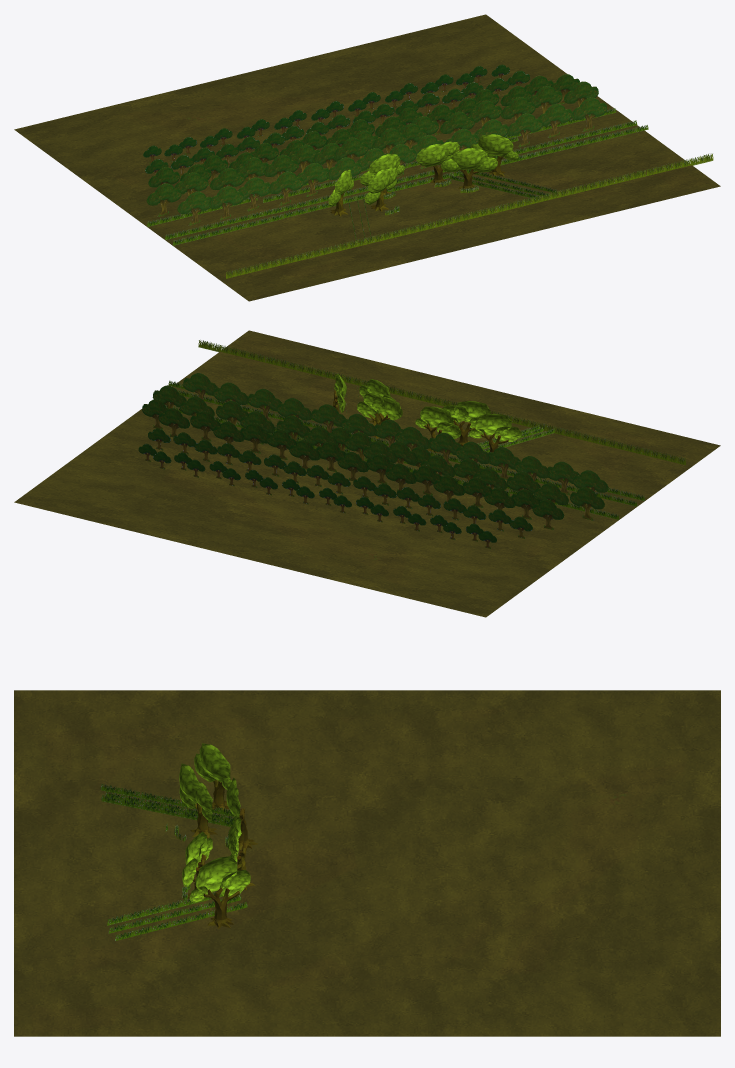
File: 312_bg_forestA.fbx
3 renders of one model, top to bottom at view 1: azimuth 30°, elevation 25°; view 2: azimuth 150°, elevation 25°; view 3: azimuth 270°, elevation 25°, orthographic. The views are drawn at different scales.
Visible parts, largest first — view 1: ground, pPlane65, pPlane323, pPlane321, pPlane325, pPlane330, pPlane326, Leaf15, pPlane322, Leaf11, pPlane324, pPlane183 (+12 smaller); view 2: ground, pPlane330, Leaf15, pPlane323, pPlane188, pPlane321, pPlane325, pPlane65, pPlane324, pPlane184, pPlane322, pPlane185 (+24 smaller); view 3: ground, Leaf15 (×2), wood3D10.
Part boxes in pixels (box(x1,y1,x2,y2)): ground: box(14, 14, 720, 301); pPlane65: box(268, 171, 303, 205); pPlane323: box(507, 113, 542, 147); pPlane321: box(571, 97, 607, 131); pPlane325: box(208, 186, 244, 219); pPlane330: box(146, 183, 181, 216); pPlane326: box(177, 191, 211, 225); Leaf15: box(478, 134, 513, 156); pPlane322: box(538, 104, 572, 137); Leaf11: box(451, 148, 487, 169); pPlane324: box(237, 177, 270, 211); pPlane183: box(296, 163, 328, 196); ground: box(14, 330, 720, 617); pPlane330: box(570, 487, 604, 520); Leaf15: box(474, 414, 511, 435); pPlane323: box(248, 388, 281, 422); pPlane188: box(312, 404, 345, 432); pPlane321: box(183, 373, 217, 400); pPlane325: box(547, 461, 579, 495); pPlane65: box(488, 447, 520, 479); pPlane324: box(514, 456, 550, 480); pPlane184: box(429, 432, 462, 466); pPlane322: box(213, 382, 249, 404); pPlane185: box(395, 426, 430, 450); ground: box(14, 690, 720, 1036); Leaf15 (×2): box(195, 743, 237, 892); wood3D10: box(203, 887, 239, 928).
Bounding box in the file's own units: 5395 × 440 × 4447.
